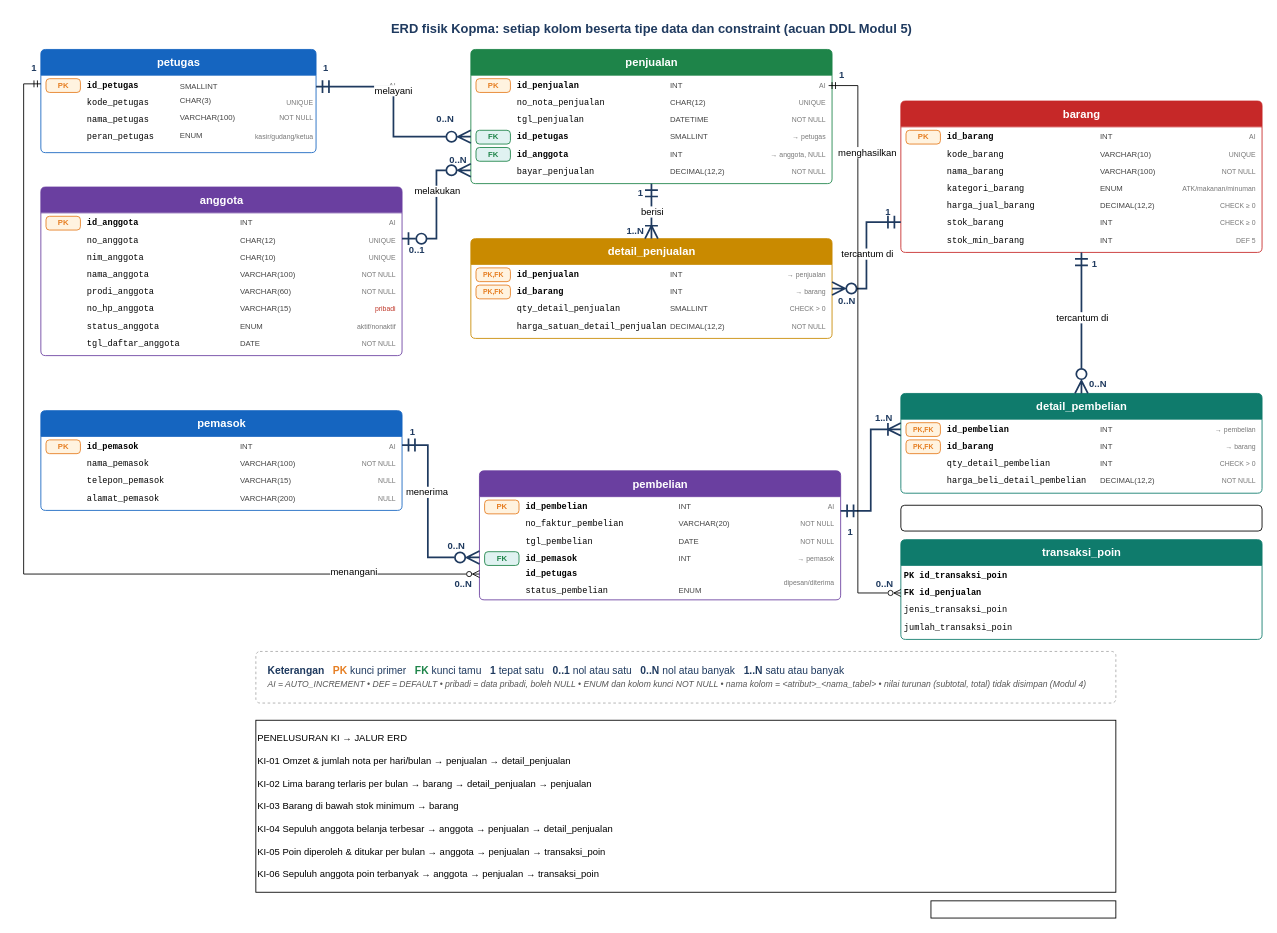
Some shapes in this 1277 by 933 pixel diagram are drawn without their labels. Here are the shapes that lost their labels. From the top down, the box of each, then its label:
(900, 504, 1262, 531): Hasil Latihan E.1
(930, 900, 1116, 918): Wahyu Fadlu Rohman-25430022-Kelas A
